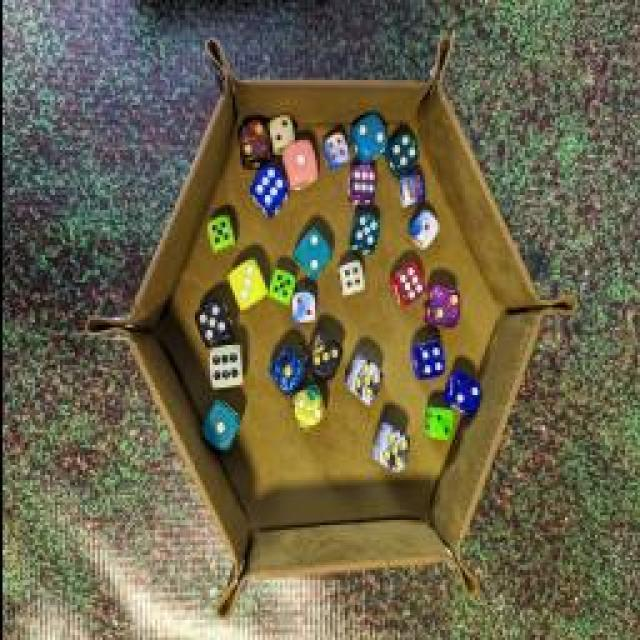dice_1: (194, 398, 244, 452), (278, 138, 318, 192), (265, 344, 305, 391), (401, 211, 441, 251)
dice_2: (420, 278, 468, 338), (345, 111, 390, 169), (438, 365, 480, 425), (292, 227, 332, 285), (231, 115, 271, 170), (292, 386, 326, 436), (265, 106, 297, 154), (422, 402, 456, 446), (288, 286, 318, 326)
dice_3: (219, 254, 269, 314), (305, 329, 345, 379)
dice_4: (385, 122, 420, 178), (336, 256, 369, 306), (412, 336, 446, 382), (320, 126, 350, 176)
dice_5: (366, 422, 412, 478), (346, 352, 389, 408), (192, 292, 230, 348), (344, 204, 384, 256), (202, 205, 238, 260), (266, 266, 296, 306)
dice_6: (246, 168, 292, 222), (199, 345, 246, 390), (391, 262, 424, 308), (342, 165, 376, 205), (392, 166, 422, 209)
